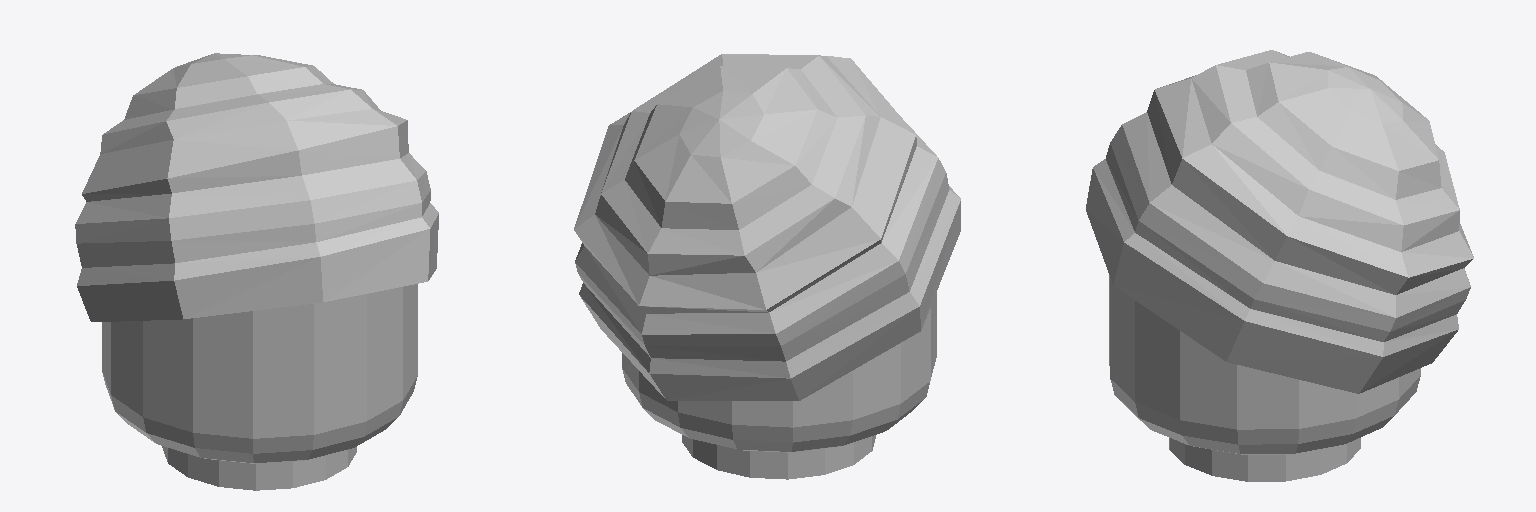
The model's file is person1Cabeza.obj.
3 renders of one model, left to right at view 1: azimuth 30°, elevation 25°; view 2: azimuth 150°, elevation 25°; view 3: azimuth 270°, elevation 25°, orthographic.
Visible parts, largest first — view 1: person:legocharacter2hat1, person:legocharacter2head3; view 2: person:legocharacter2hat1, person:legocharacter2head3; view 3: person:legocharacter2hat1, person:legocharacter2head3.
Boxes of the visible parts, x1,y1,x2,y2 form: person:legocharacter2hat1: [75, 53, 438, 321]; person:legocharacter2head3: [102, 284, 417, 490]; person:legocharacter2hat1: [574, 54, 960, 400]; person:legocharacter2head3: [622, 293, 936, 479]; person:legocharacter2hat1: [1086, 50, 1473, 393]; person:legocharacter2head3: [1109, 275, 1420, 481].
Size of the model in its own units: 0.6968 by 0.7525 by 0.7087.